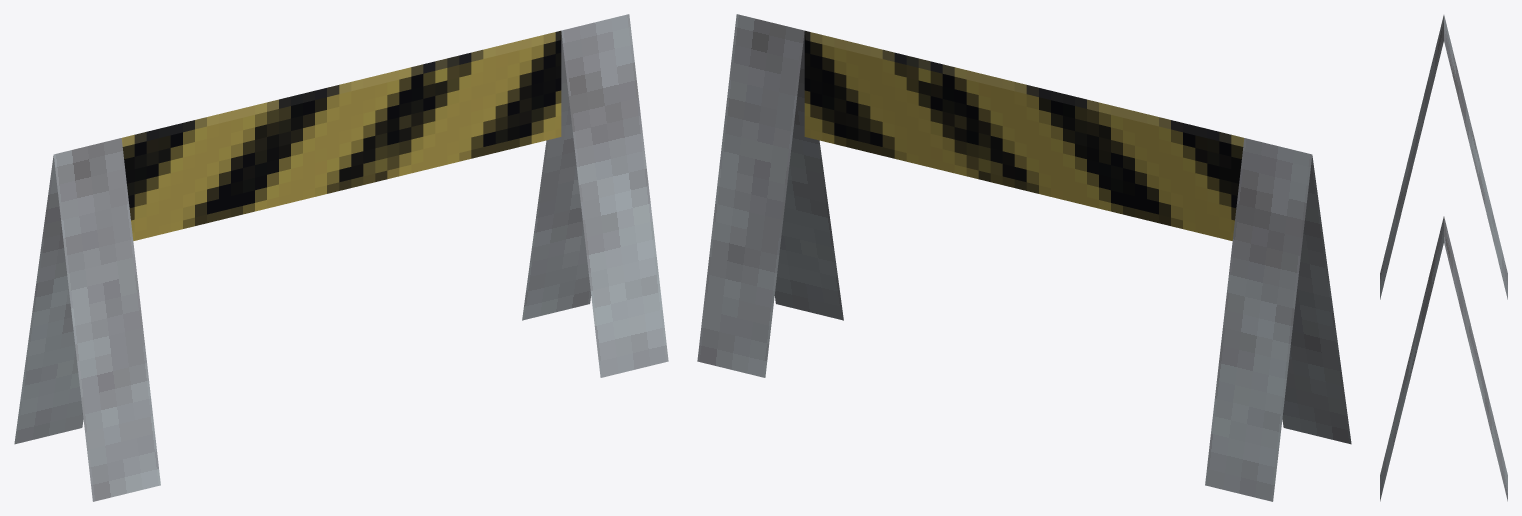
File: detailBarrier_typeB.glb
3 views of the same model, side by side, from view 1: azimuth 30°, elevation 25°; view 2: azimuth 150°, elevation 25°; view 3: azimuth 270°, elevation 25° (orthographic). The views are drawn at different scales.
Parts seen in each view (by area): view 1: detailBarrier_typeB; view 2: detailBarrier_typeB; view 3: detailBarrier_typeB.
Part boxes in pixels (<box>): detailBarrier_typeB: <box>14,14,668,501</box>; detailBarrier_typeB: <box>697,14,1351,501</box>; detailBarrier_typeB: <box>1380,15,1507,501</box>.
Bounding box in the file's own units: 0.567 × 0.3 × 0.134.
Materials: 2 (2 with a texture image).
